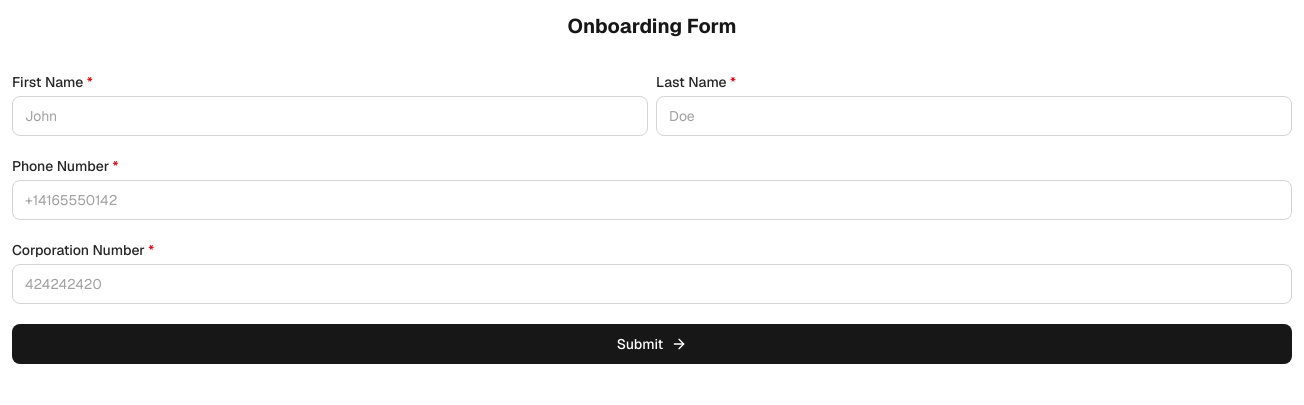
Test: OnboardingForm › checks a complete corporation number and shows an error
This screenshot has width=1304, height=405.
Type "000000000" into the field labelled "Corporation Number" at (652, 284), box [12,264,1292,304]
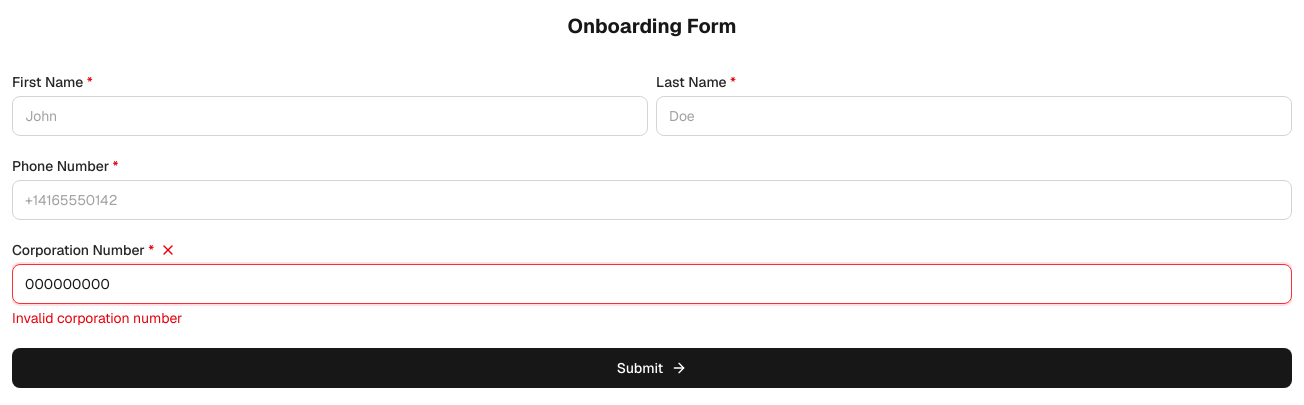
Expected: the text "Invalid corporation number" is shown, [12,309,182,327]
